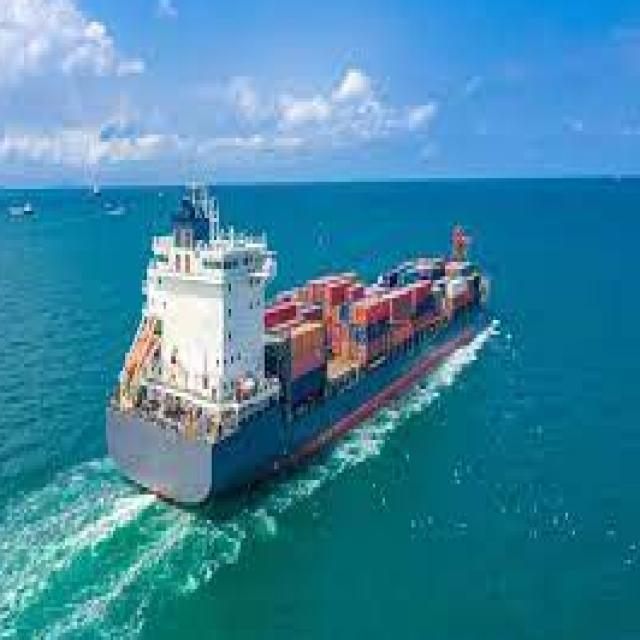cargoship: (92, 178, 495, 508)
